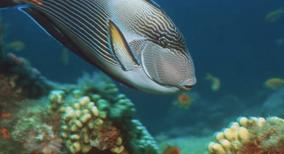Acanthuridae -Surgeonfishes-: (0, 0, 199, 95)
